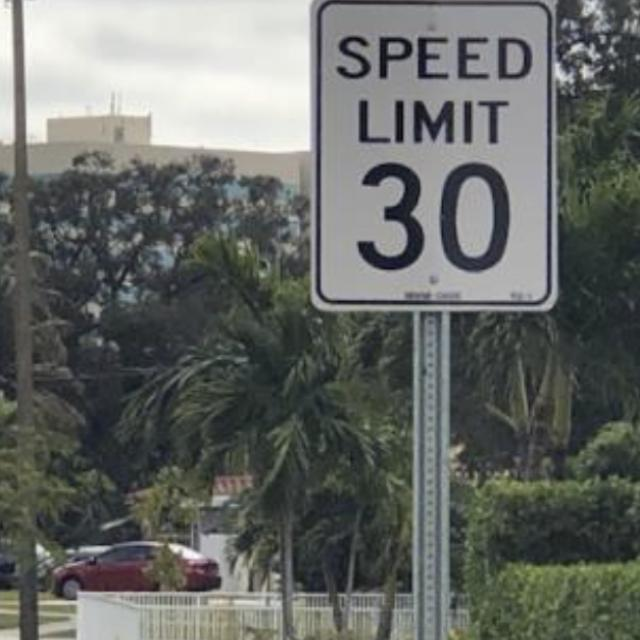speedLimit30: (317, 4, 549, 301)
